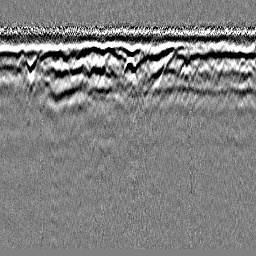cavity: (121, 55, 139, 80)
